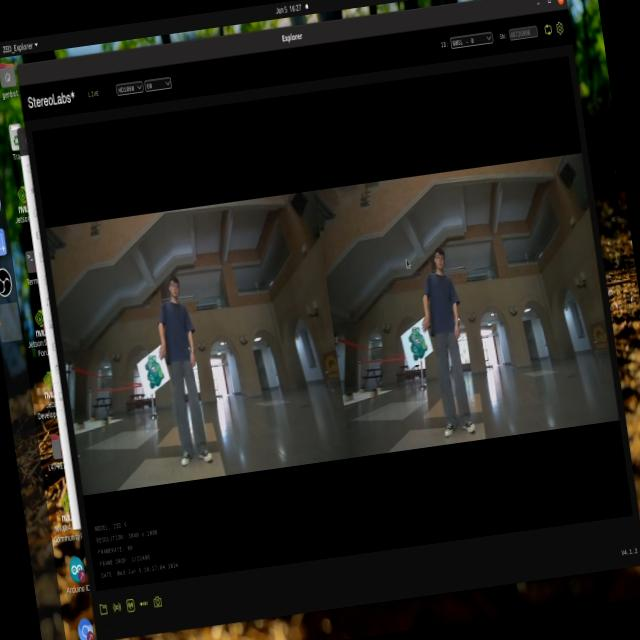green: (403, 326, 430, 372), (141, 353, 169, 395)
